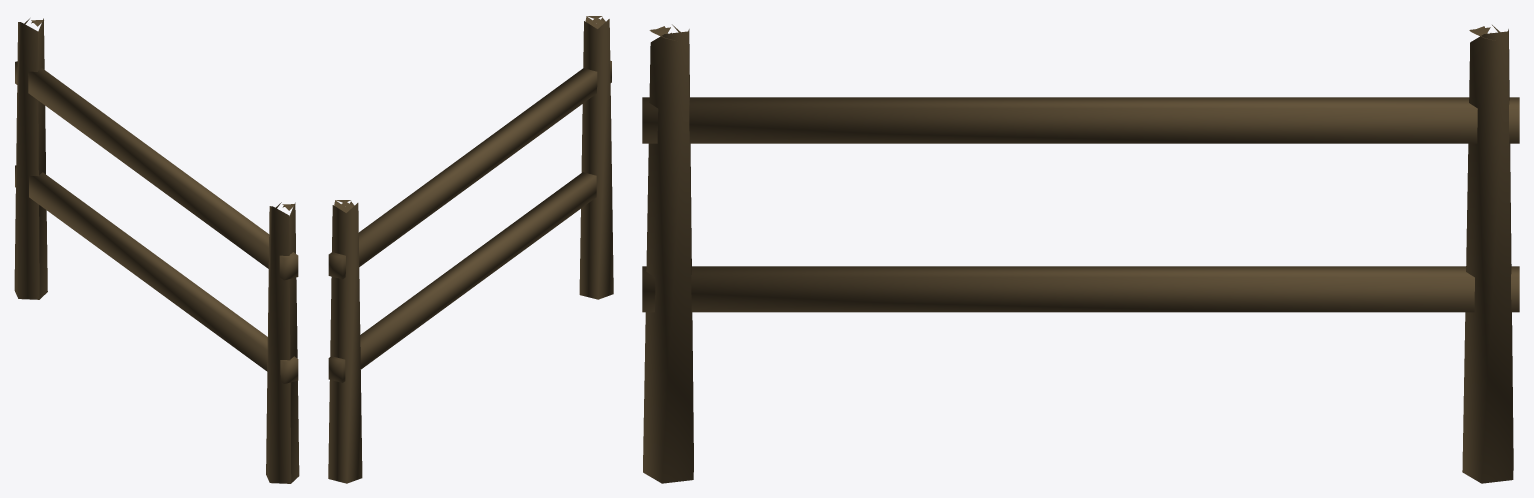
Rendered from fence-section.glb.
3 renders of one model, left to right at view 1: azimuth 30°, elevation 25°; view 2: azimuth 150°, elevation 25°; view 3: azimuth 270°, elevation 25°, orthographic. The views are drawn at different scales.
Parts seen in each view (by area): view 1: 소품.울타리; view 2: 소품.울타리; view 3: 소품.울타리.
Boxes of the visible parts, bbox=[...] form: 소품.울타리: bbox=[14, 18, 299, 483]; 소품.울타리: bbox=[328, 16, 613, 483]; 소품.울타리: bbox=[642, 24, 1519, 483].
Bounding box in the file's own units: 0.11 × 0.9776 × 1.73.
